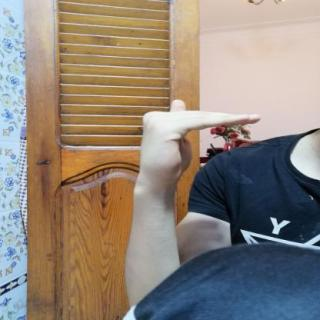KHAA: (130, 96, 268, 187)
